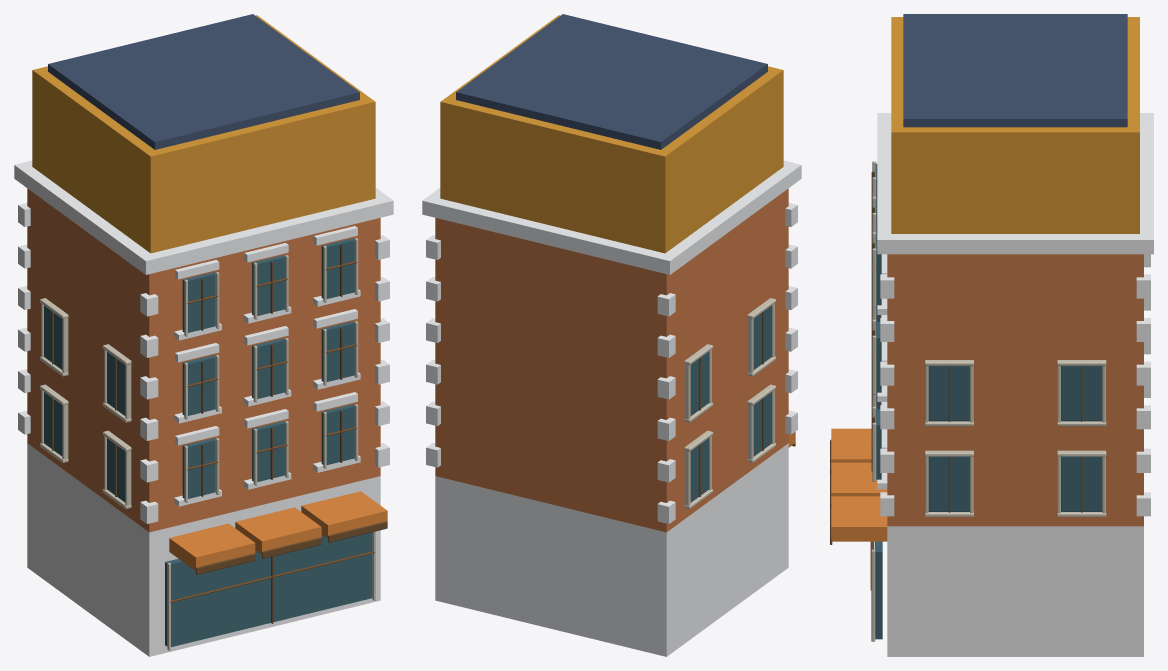
Rendered from city_detail_v2_02.glb.
The picture shows the model from 3 angles, left to right: view 1: azimuth 30°, elevation 25°; view 2: azimuth 150°, elevation 25°; view 3: azimuth 270°, elevation 25°; orthographic projection. The views are drawn at different scales.
Visible parts, largest first — view 1: Exterior architecture detail 2; view 2: Exterior architecture detail 2; view 3: Exterior architecture detail 2.
Boxes of the visible parts, x1,y1,x2,y2 form: Exterior architecture detail 2: (14, 14, 393, 656); Exterior architecture detail 2: (422, 14, 801, 656); Exterior architecture detail 2: (830, 14, 1153, 656).
Size of the model in its own units: 7.5 by 14.62 by 8.08.
